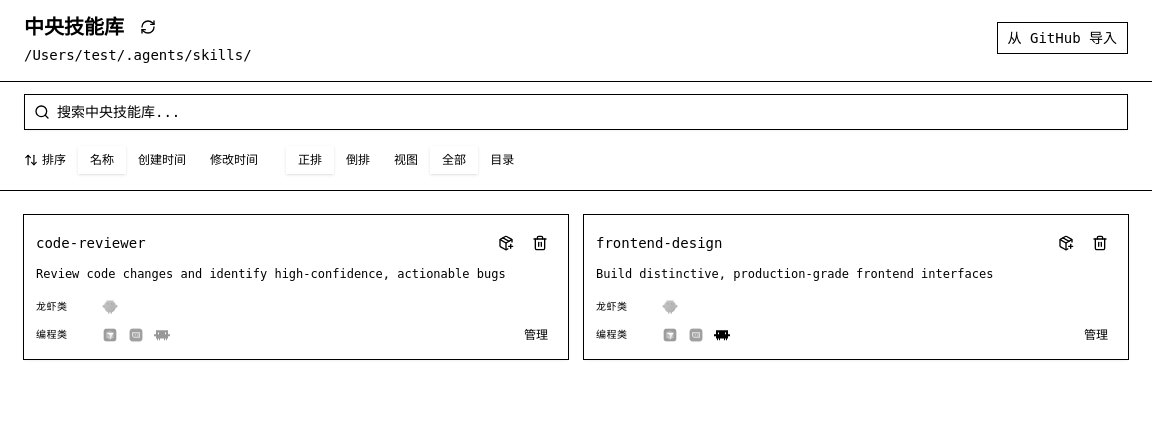
Test: CentralSkillsView › shows empty state when search has no results
Type "zzz-nonexistent" into the field with placeholder "搜索中央技能库..." at (576, 112), box [24,94,1128,130]
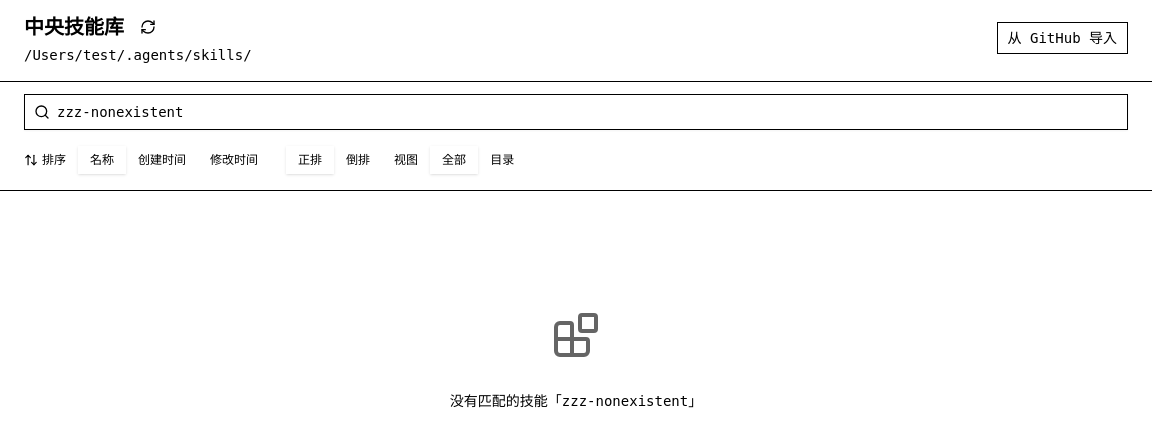
Now the text "没有匹配的技能「zzz-nonexistent」" is shown, box [450,391,702,411]
